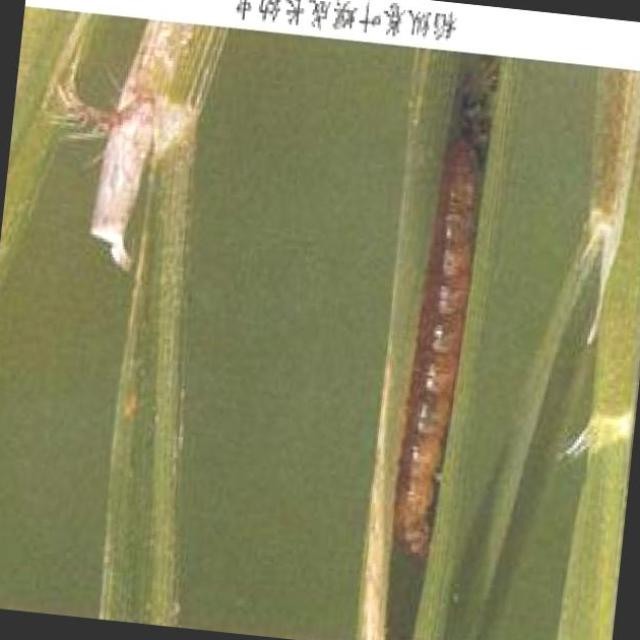leaf folder: (394, 58, 499, 578), (389, 575, 418, 640)
